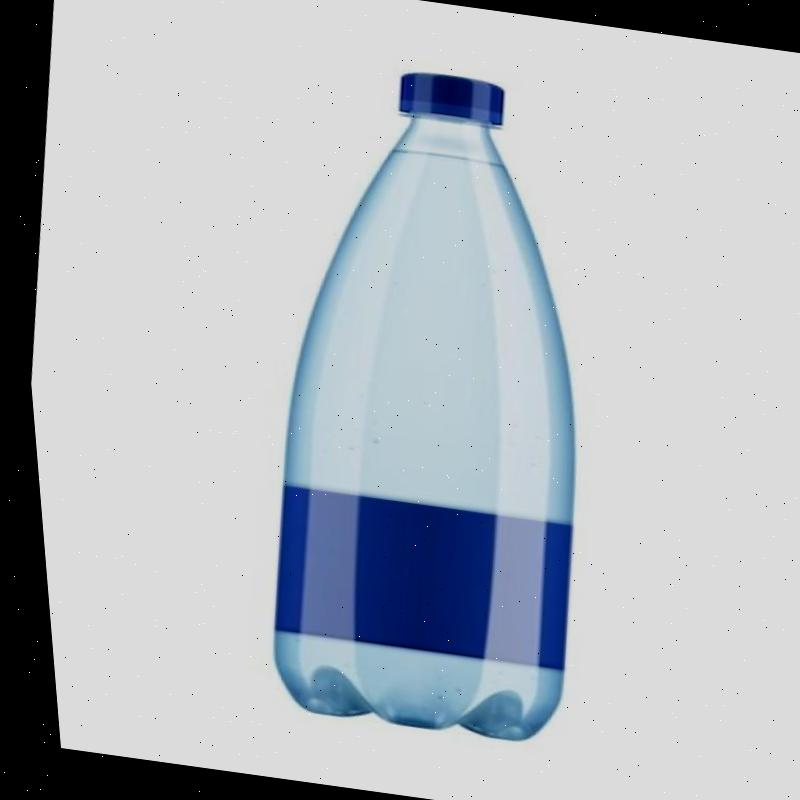botella: (214, 54, 637, 748)
